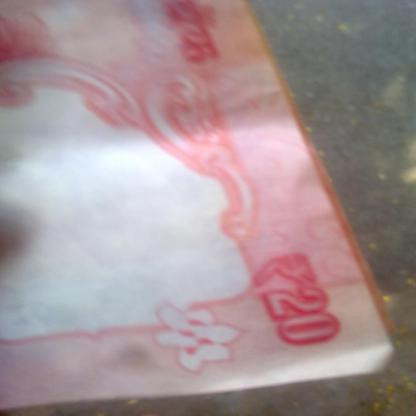Old20Back: (0, 3, 354, 401)
